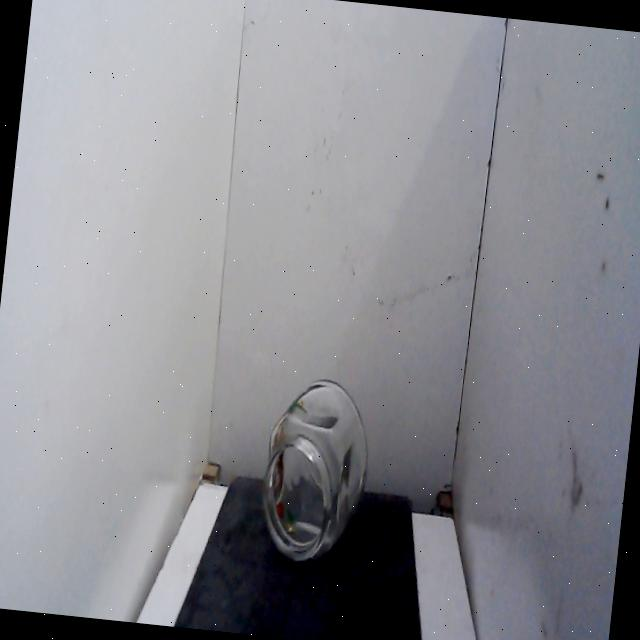vidro: (246, 362, 384, 586)
